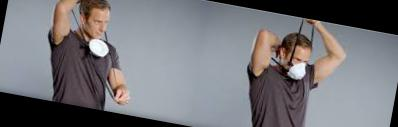mask_weared_incorrect: (86, 15, 115, 50)
with_mask: (288, 53, 310, 81)
